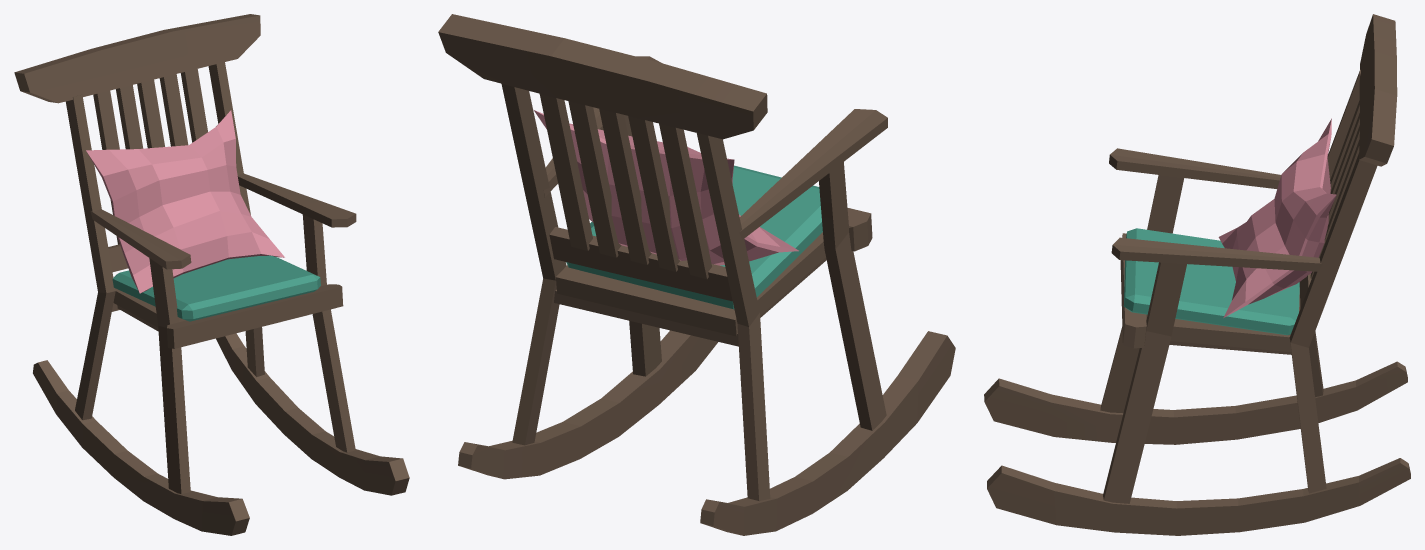
Rendered from Chair_2_231109.glb.
The picture shows the model from 3 angles, left to right: view 1: azimuth 30°, elevation 25°; view 2: azimuth 150°, elevation 25°; view 3: azimuth 270°, elevation 25°; orthographic projection. The views are drawn at different scales.
Visible parts, largest first — view 1: Chair_2; view 2: Chair_2; view 3: Chair_2.
Part boxes in pixels (bbox=[...]): Chair_2: bbox=[14, 14, 409, 535]; Chair_2: bbox=[438, 14, 955, 535]; Chair_2: bbox=[984, 14, 1410, 535].
Size of the model in its own units: 1.02 by 1.55 by 1.45.
1 material, 1 textured.
